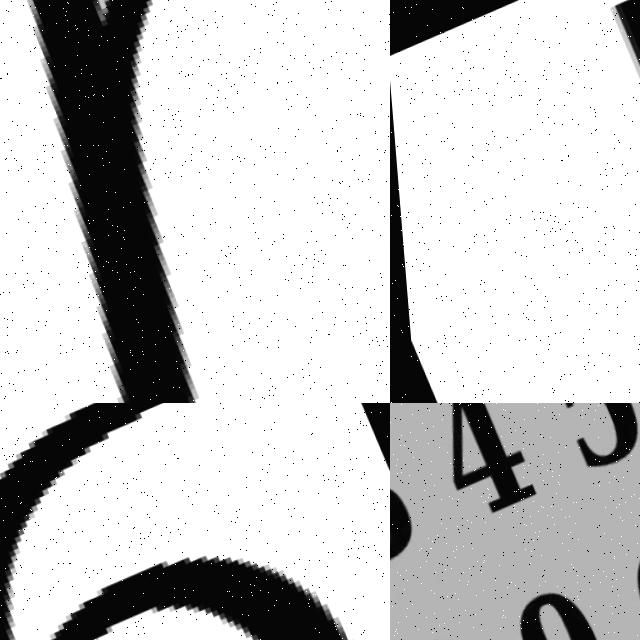3: (390, 403, 426, 590)
4: (405, 403, 546, 545)
5: (514, 403, 640, 493)
6: (0, 403, 390, 640)
9: (484, 561, 628, 640)
R: (0, 0, 390, 403)
